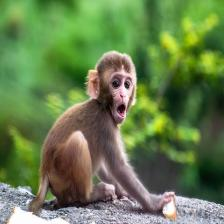monkey: (25, 51, 172, 215)
